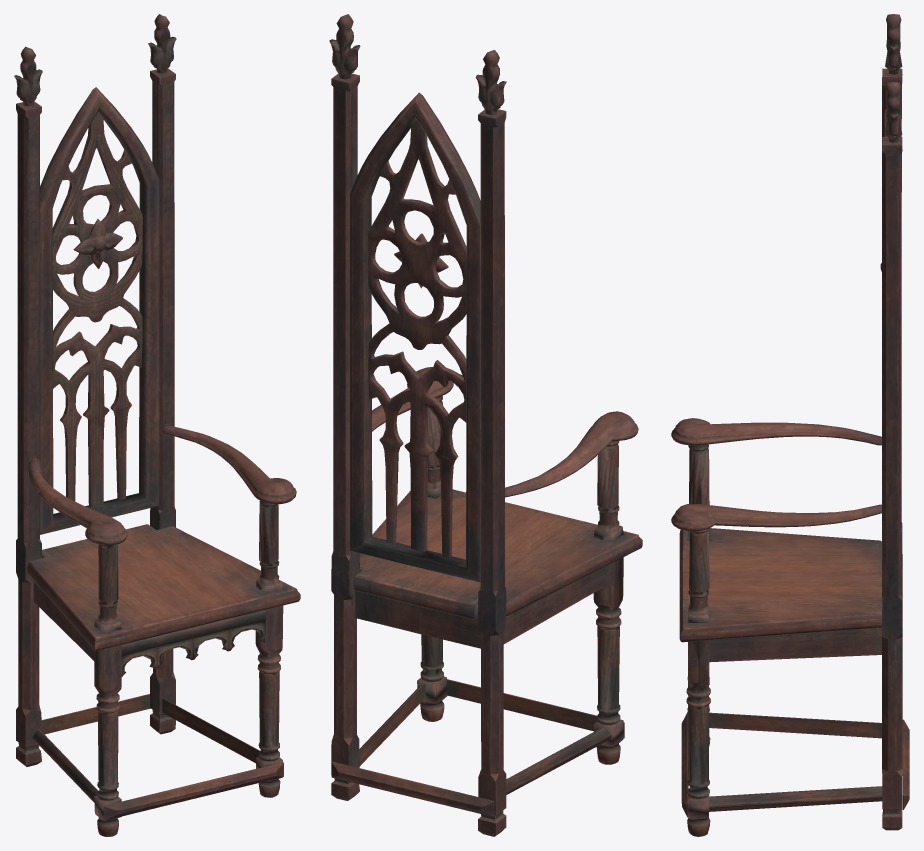
Rendered from WoodenChair_01.glb.
The picture shows the model from 3 angles, left to right: view 1: azimuth 30°, elevation 25°; view 2: azimuth 150°, elevation 25°; view 3: azimuth 270°, elevation 25°; orthographic projection. The views are drawn at different scales.
Parts seen in each view (by area): view 1: WoodenChair_01; view 2: WoodenChair_01; view 3: WoodenChair_01.
Part boxes in pixels (x1=…): WoodenChair_01: x1=14, y1=14, x2=300, y2=836; WoodenChair_01: x1=329, y1=14, x2=642, y2=836; WoodenChair_01: x1=671, y1=14, x2=909, y2=836.
Size of the model in its own units: 0.6877 by 2.27 by 0.6584.
Materials: 1 (1 with a texture image).
